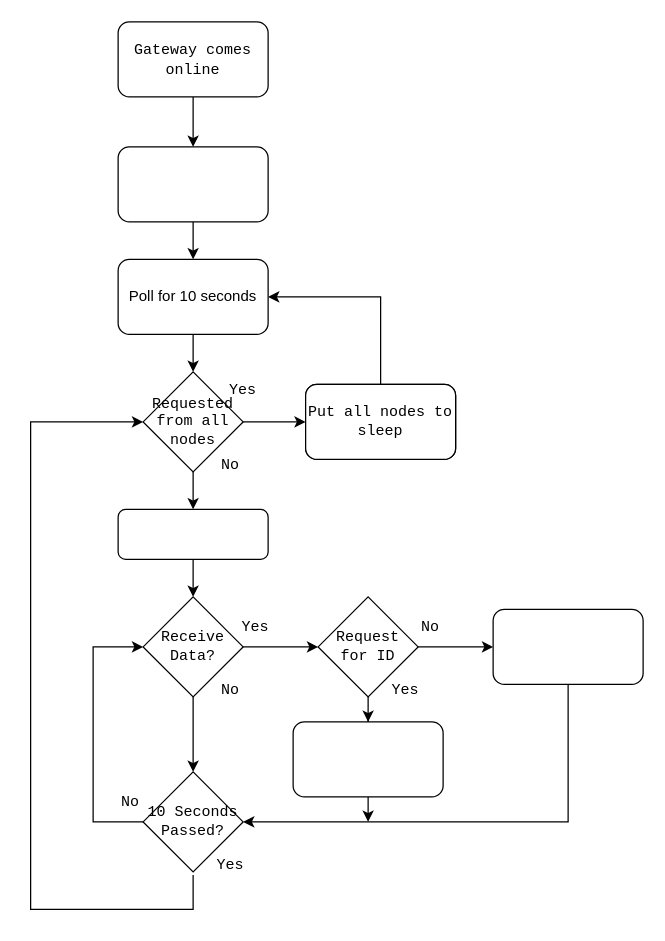
Some shapes in this 665 by 941 pixel diagram are drawn without their labels. Each missing label, with the centre of its shape:
Assign ID: [367,759]
Request from next node: [192,533]
Send Data to PI: [567,646]
Send Reset Message: [192,184]
